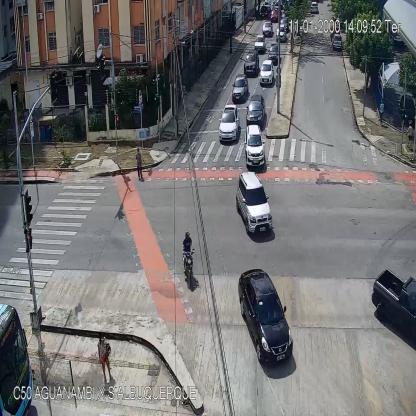bus: (0, 302, 36, 416)
car: (238, 268, 294, 362), (371, 266, 416, 340), (235, 171, 273, 237), (244, 123, 265, 168), (219, 104, 239, 143), (246, 96, 266, 122), (232, 75, 248, 101), (259, 59, 274, 85), (243, 51, 258, 75), (268, 42, 280, 63), (255, 34, 265, 51), (276, 26, 286, 42), (333, 34, 341, 49), (263, 23, 272, 36), (280, 19, 289, 31), (311, 2, 319, 14), (260, 6, 268, 18), (272, 9, 278, 20)
motorbike: (184, 230, 194, 292)
person: (98, 333, 113, 385), (135, 148, 144, 179), (406, 120, 414, 150), (379, 98, 385, 124), (181, 86, 187, 112), (290, 38, 293, 53)
